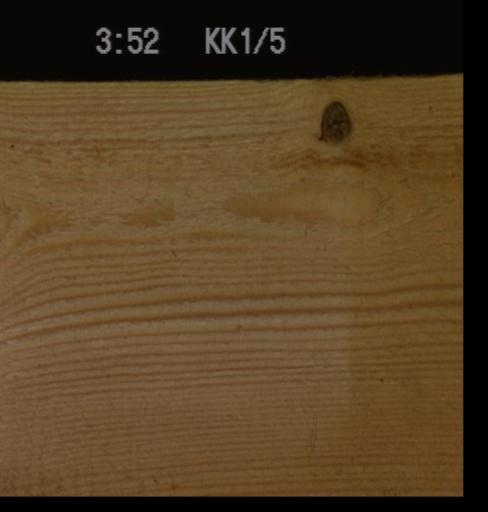dry_knot: (315, 99, 350, 144)
